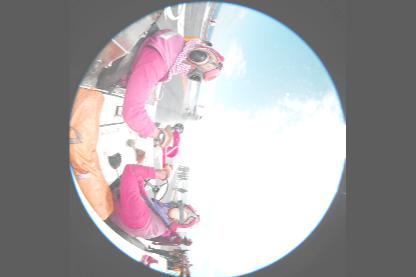F15: (189, 105, 206, 138)
